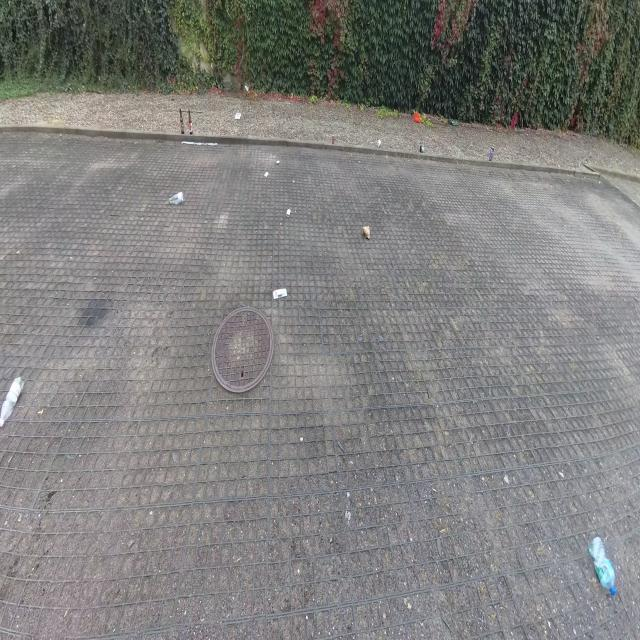rubbish: (586, 535, 616, 596), (0, 374, 26, 427), (180, 140, 218, 146), (169, 190, 184, 205), (273, 287, 288, 300), (411, 111, 423, 123), (188, 111, 193, 135), (363, 225, 370, 242), (489, 146, 494, 164), (180, 109, 183, 133), (375, 138, 382, 148), (447, 119, 457, 126), (234, 111, 242, 119), (286, 208, 292, 217), (264, 170, 270, 179), (419, 145, 424, 152), (331, 135, 334, 144), (275, 160, 280, 164)
